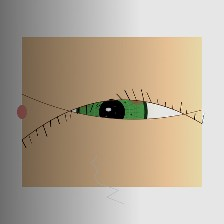foreign_body_visible: (64, 85, 99, 113)
